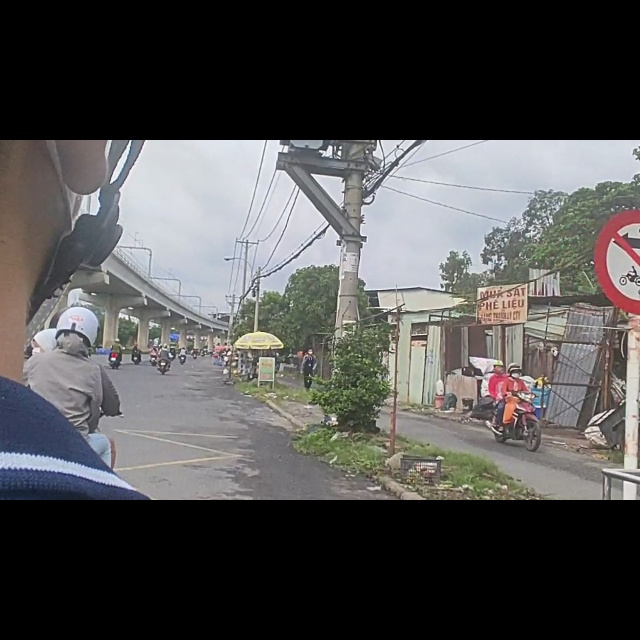bien_cam: (594, 126, 640, 312)
